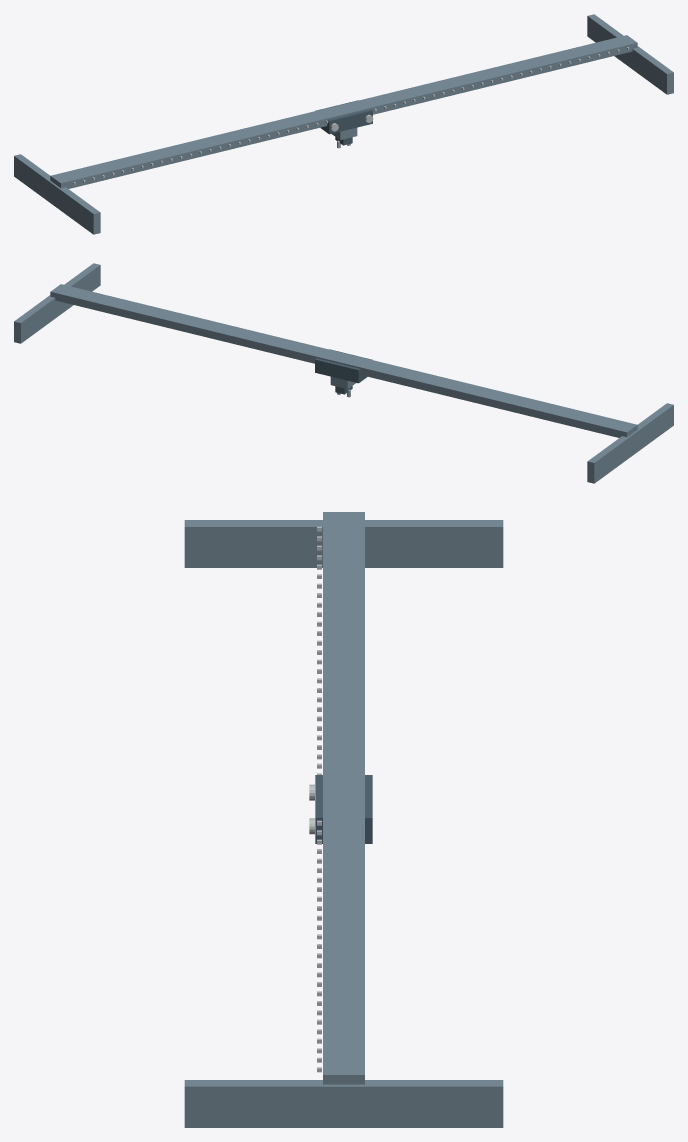
File: 25_L77_OverheadWaferTransferGantry.glb
3 renders of one model, top to bottom at view 1: azimuth 30°, elevation 25°; view 2: azimuth 150°, elevation 25°; view 3: azimuth 270°, elevation 25°, orthographic. The views are drawn at different scales.
Visible parts, largest first — view 1: OverheadWaferTransferGantry_Node_0002, OverheadWaferTransferGantry_Node_0000, OverheadWaferTransferGantry_Node_0001, OverheadWaferTransferGantry_Node_0061; view 2: OverheadWaferTransferGantry_Node_0002, OverheadWaferTransferGantry_Node_0000, OverheadWaferTransferGantry_Node_0001, OverheadWaferTransferGantry_Node_0061; view 3: OverheadWaferTransferGantry_Node_0002, OverheadWaferTransferGantry_Node_0001, OverheadWaferTransferGantry_Node_0000, OverheadWaferTransferGantry_Node_0061.
Part boxes in pixels (box(x1,y1,x2,y2)): OverheadWaferTransferGantry_Node_0002: box(50, 35, 637, 188); OverheadWaferTransferGantry_Node_0000: box(14, 154, 100, 234); OverheadWaferTransferGantry_Node_0001: box(587, 14, 673, 94); OverheadWaferTransferGantry_Node_0061: box(315, 100, 372, 134); OverheadWaferTransferGantry_Node_0002: box(50, 284, 637, 437); OverheadWaferTransferGantry_Node_0000: box(587, 403, 673, 483); OverheadWaferTransferGantry_Node_0001: box(14, 263, 100, 343); OverheadWaferTransferGantry_Node_0061: box(315, 349, 372, 383); OverheadWaferTransferGantry_Node_0002: box(323, 512, 364, 1084); OverheadWaferTransferGantry_Node_0001: box(184, 1080, 503, 1127); OverheadWaferTransferGantry_Node_0000: box(184, 520, 503, 567); OverheadWaferTransferGantry_Node_0061: box(315, 775, 372, 843).
Bounding box in the file's own units: 18.52 × 1.13 × 4.4.
